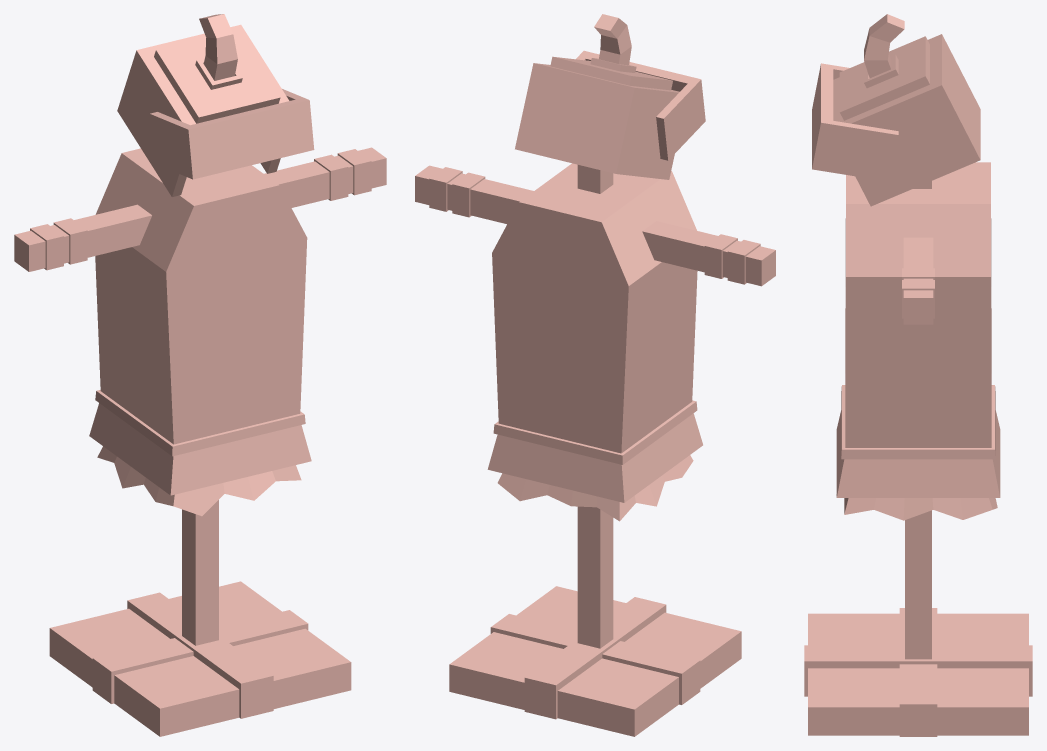
File: Mega_Asset_s_Pack_Cube_308.FBX
3 renders of one model, left to right at view 1: azimuth 30°, elevation 25°; view 2: azimuth 150°, elevation 25°; view 3: azimuth 270°, elevation 25°, orthographic. The views are drawn at different scales.
Parts seen in each view (by area): view 1: Mega_Asset_s_Pack_Cube_308; view 2: Mega_Asset_s_Pack_Cube_308; view 3: Mega_Asset_s_Pack_Cube_308.
Boxes of the visible parts, <box> form: Mega_Asset_s_Pack_Cube_308: <box>14,14,386,736</box>; Mega_Asset_s_Pack_Cube_308: <box>415,14,775,736</box>; Mega_Asset_s_Pack_Cube_308: <box>804,14,1032,736</box>.
Size of what is drawn, in the model's own units: 172 by 94.71 by 307.
